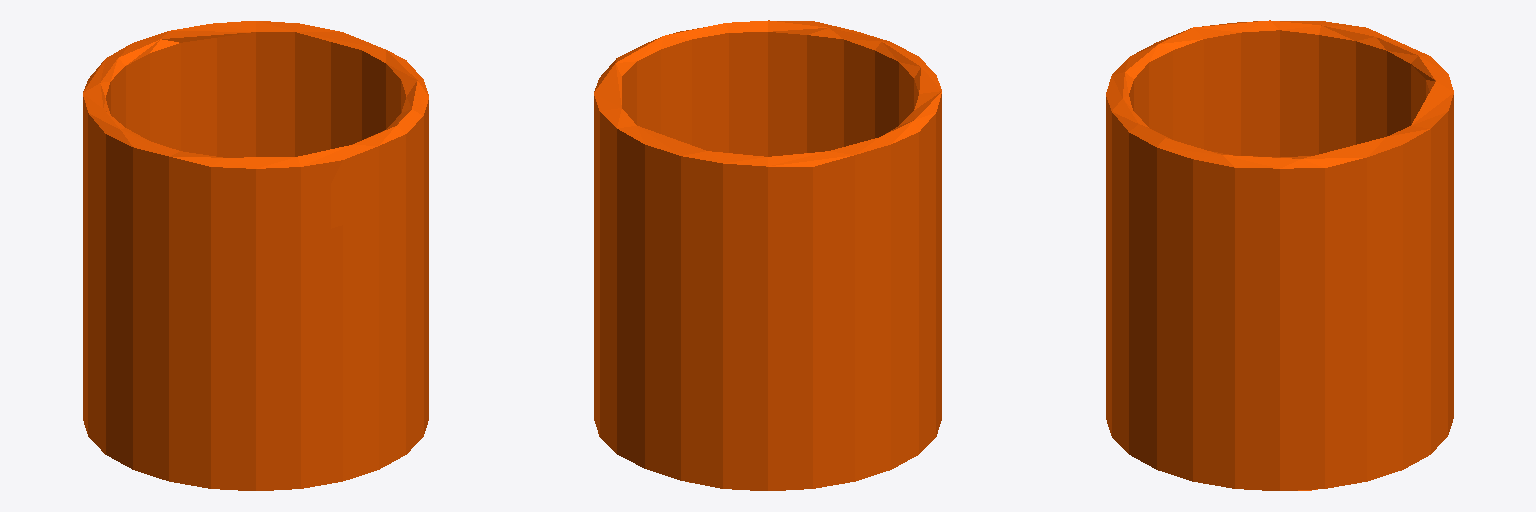
URDF robot description (Mug_46ed9dad0440c043d33646b0990bb4a_handle):
<?xml version="1.0" ?>
<robot name="Mug_46ed9dad0440c043d33646b0990bb4a_handle">
   <material name="obj_color">
      <color rgba="1.0 0.423529411765 0.0392156862745 1.0"/>
   </material>
   <link name="top">
      <inertial>
         <origin rpy="3.187716454886323e-06 8.149930395928731e-06 1.08227751661919e-05" xyz="-0.006606447843873473 -0.04970956839408397 -0.001901140242687887"/>
         <mass value="0.02540225520159896"/>
         <inertia ixx="1.076747507607026e-05" ixy="-3.80603069531212e-07" ixz="5.73323688957909e-08" iyy="8.197576314307493e-06" iyz="1.86952099269293e-07" izz="3.195370626629195e-06"/>
      </inertial>
      <visual>
         <origin rpy="0 0 0" xyz="0 0 0"/>
         <geometry>
            <mesh filename="top_watertight_tiny.stl" scale="1 1 1"/>
         </geometry>
         <material name="obj_color"/>
      </visual>
      <collision>
         <origin rpy="0 0 0" xyz="0 0 0"/>
         <geometry>
            <mesh filename="top_watertight_tiny.obj" scale="1 1 1"/>
         </geometry>
      </collision>
   </link>
   <link name="bottom">
      <inertial>
         <origin rpy="0.0005216242367968046 0.0006506152391786154 0.0006506305083118009" xyz="0.001067423517854269 0.009212845527901657 0.0001815279161347377"/>
         <mass value="0.5457125436548421"/>
         <inertia ixx="0.0006506302738136133" ixy="-1.877658518821804e-09" ixz="2.164666980009263e-10" iyy="0.0006506154736472349" iyz="1.940917938644526e-09" izz="0.0005216242368263727"/>
      </inertial>
      <visual>
         <origin rpy="0 0 0" xyz="0 0 0"/>
         <geometry>
            <mesh filename="bottom_watertight_tiny.stl" scale="1 1 1"/>
         </geometry>
         <material name="obj_color"/>
      </visual>
      <collision>
         <origin rpy="0 0 0" xyz="0 0 0"/>
         <geometry>
            <mesh filename="bottom_watertight_tiny.obj" scale="1 1 1"/>
         </geometry>
      </collision>
   </link>
   <link name="world"/>
   <joint name="world_to_base" type="fixed">
      <origin xyz="0 0 0"/>
      <axis xyz="0 0 0"/>
      <parent link="world"/>
      <child link="bottom"/>
   </joint>
   <joint name="rotation" type="revolute">
      <origin xyz="0 0 0"/>
      <axis xyz="0 0 -1"/>
      <parent link="bottom"/>
      <child link="top"/>
      <dynamics damping="1.0" friction="1.0"/>
      <limit effort="0.1" velocity="0.1" lower="0" upper="0.001"/>
   </joint>
</robot>

--- Render facts (derived) ---
Views: 3 orthographic renders of the robot side by side, from view 1: azimuth 30°, elevation 25°; view 2: azimuth 150°, elevation 25°; view 3: azimuth 270°, elevation 25°.
Robot: Mug_46ed9dad0440c043d33646b0990bb4a_handle — 3 links, 2 joints (1 revolute, 1 fixed); root link world; default pose: all joints at 0.
Links seen in each view (by area): view 1: bottom; view 2: bottom; view 3: bottom.
Boxes of the visible links, bbox=[...] form: bottom: bbox=[83, 21, 428, 490]; bottom: bbox=[594, 20, 941, 490]; bottom: bbox=[1106, 20, 1453, 490].
Size in the robot's own frame: 0.088 by 0.088 by 0.0926 metres.
Meshes: 2 distinct files referenced, 1 mesh visuals loaded (1 binary STL); not drawn: 1 (reference not matched to a file when rendering).